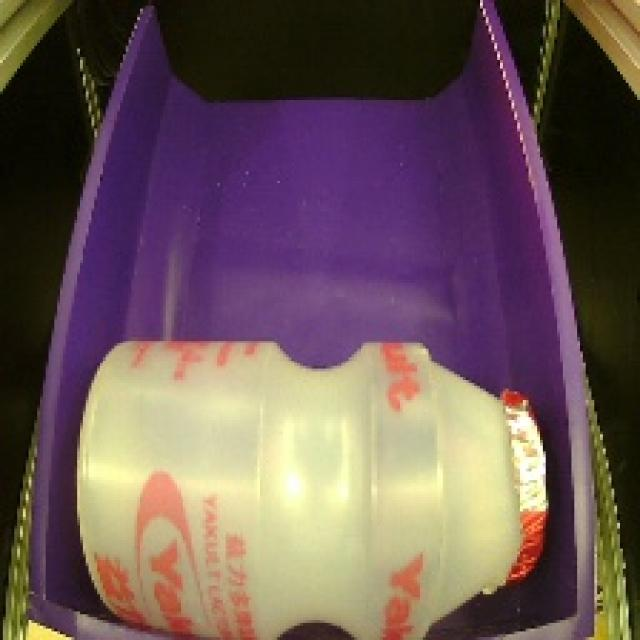plastic: (49, 302, 573, 640)
